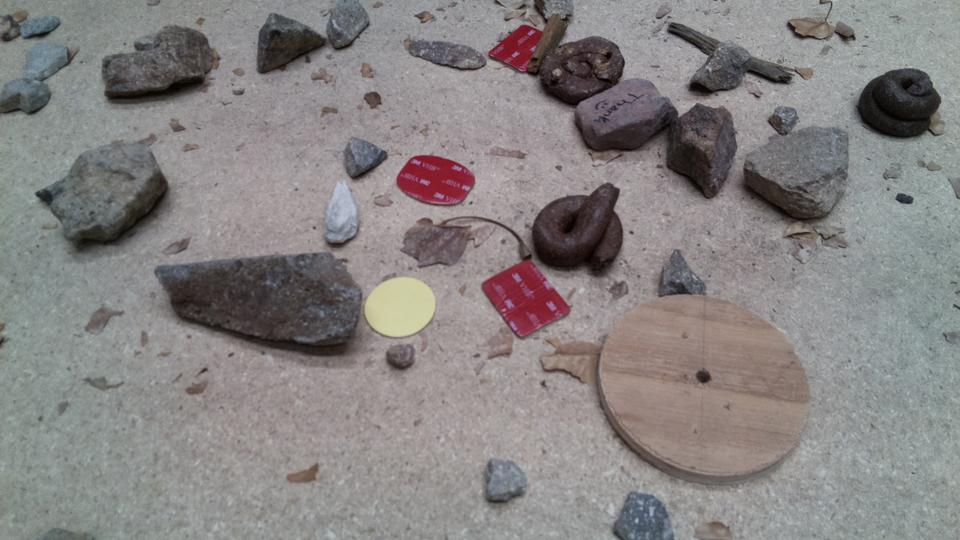poop: (531, 181, 625, 276), (857, 66, 942, 138), (539, 34, 625, 105)
